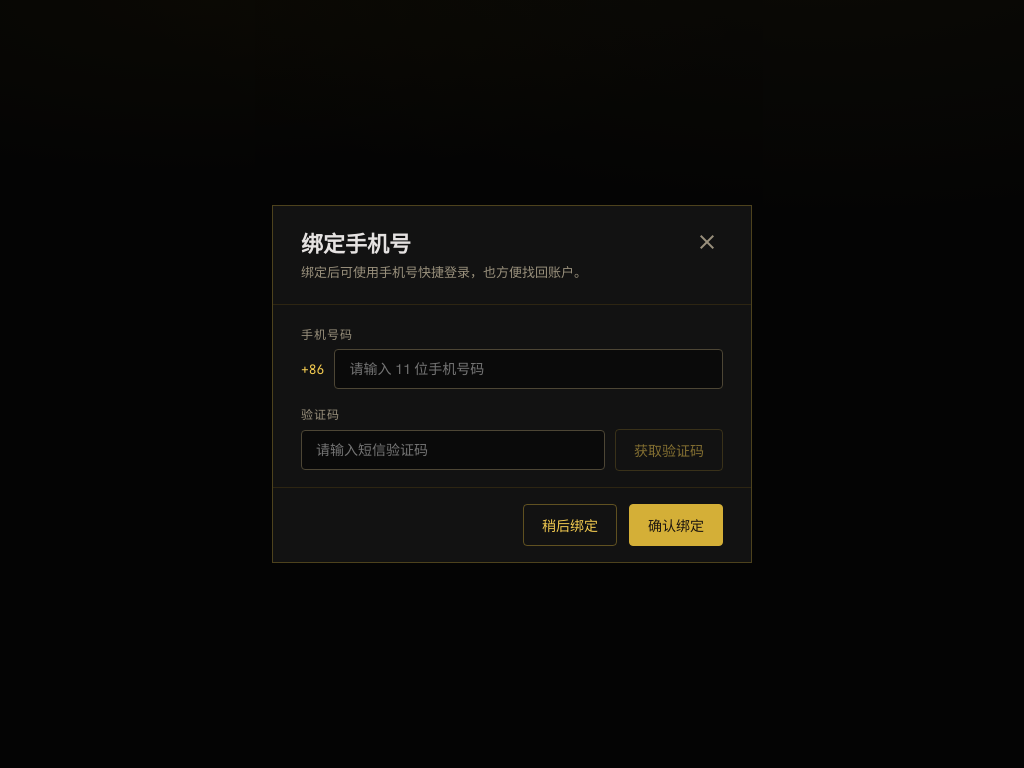
Test case: PhoneBindingModal › shows backend validation and duplicate-phone errors
In the field named "phone-binding-phone": point(529, 369) [334,349,723,389], type "13800138000"
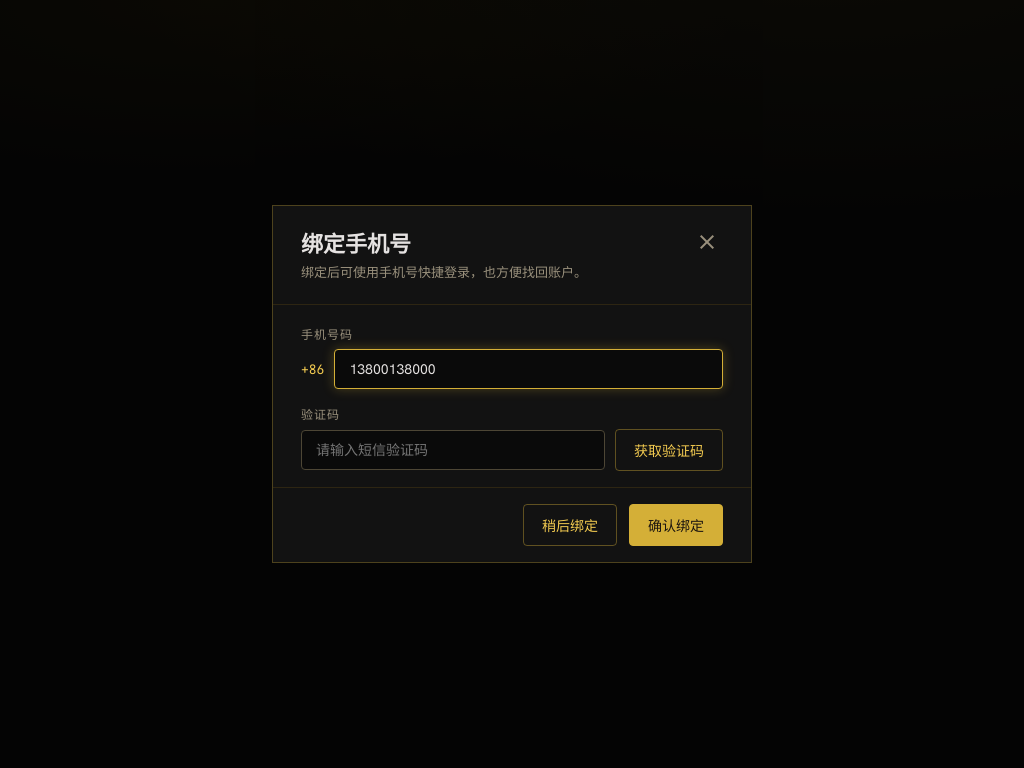
In the field named "phone-binding-code": point(453, 450) [301,430,605,470], type "123456"
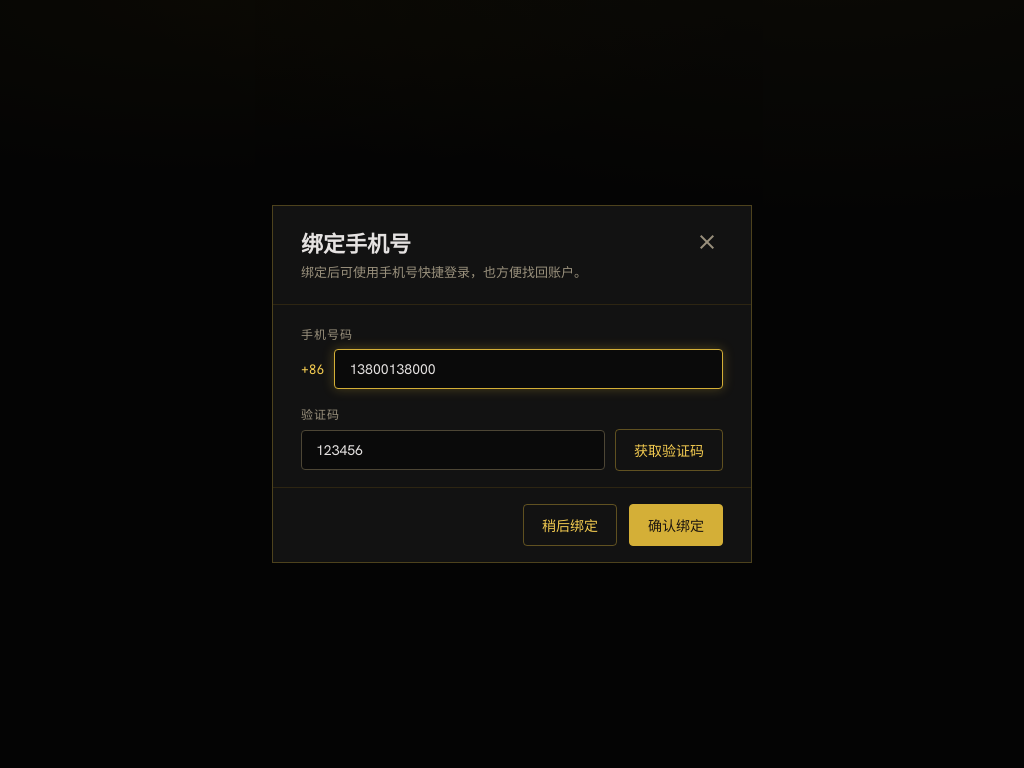
Submit the form, box [273,305,751,562]
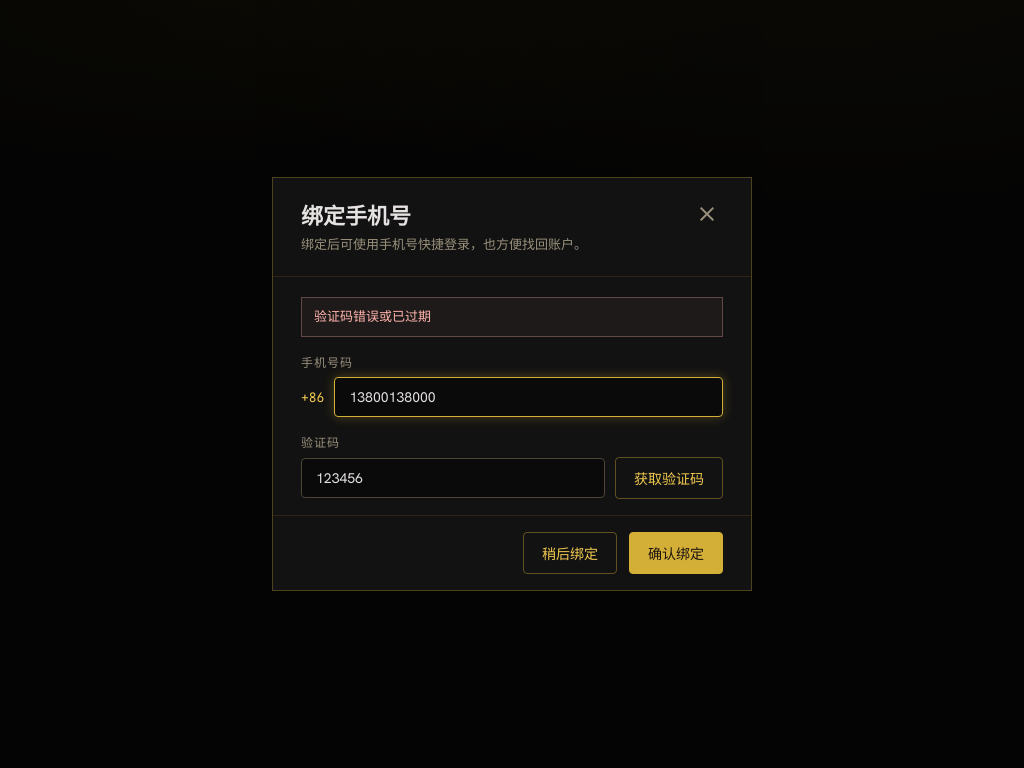
Expected: the message "验证码错误或已过期" is shown, [301,297,723,337]
Submit the form, box [273,277,751,590]
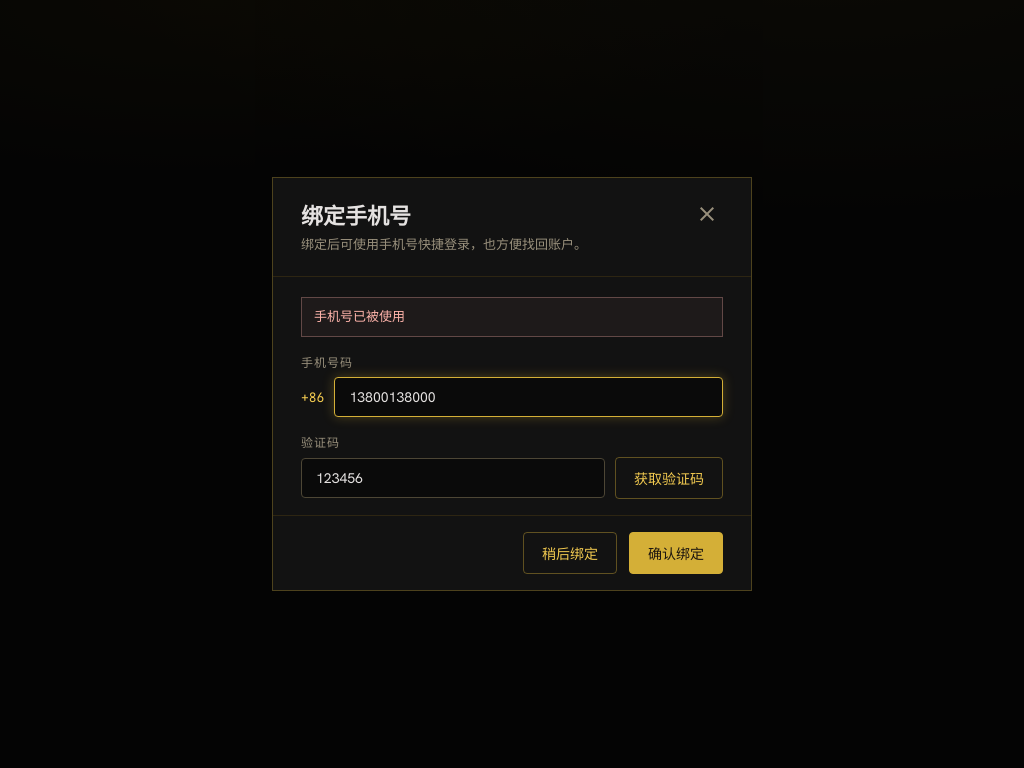
Expected: the message "手机号已被使用" is shown, [301,297,723,337]
